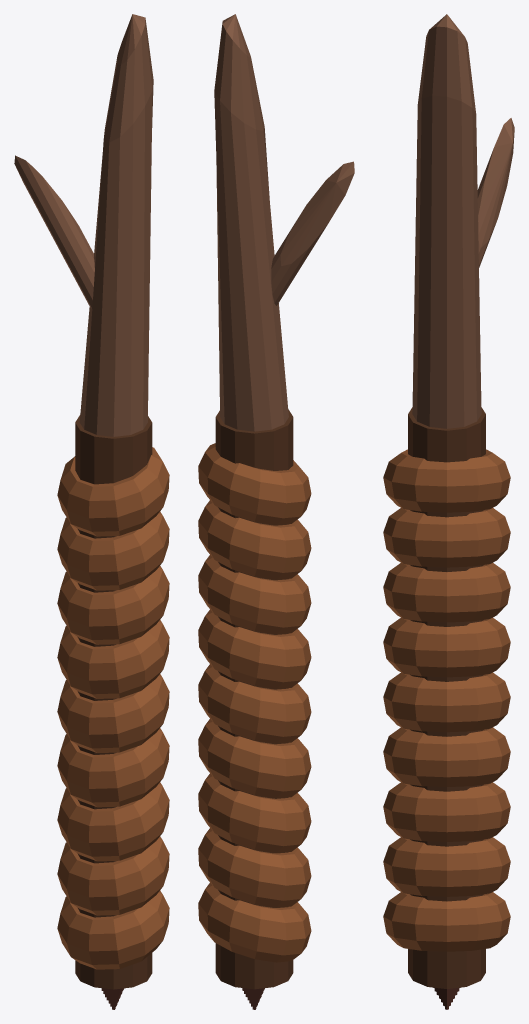
The model's file is Wand 464.glb.
3 views of the same model, side by side, from view 1: azimuth 30°, elevation 25°; view 2: azimuth 210°, elevation 25°; view 3: azimuth 270°, elevation 25° (orthographic).
Parts seen in each view (by area): view 1: GeneratedWand; view 2: GeneratedWand; view 3: GeneratedWand.
Part boxes in pixels (box(x1,y1,x2,y2)): GeneratedWand: box(14, 14, 169, 1009); GeneratedWand: box(198, 14, 354, 1009); GeneratedWand: box(383, 14, 514, 1009).
Size of the model in its own units: 0.0604 by 0.5049 by 0.0599.
